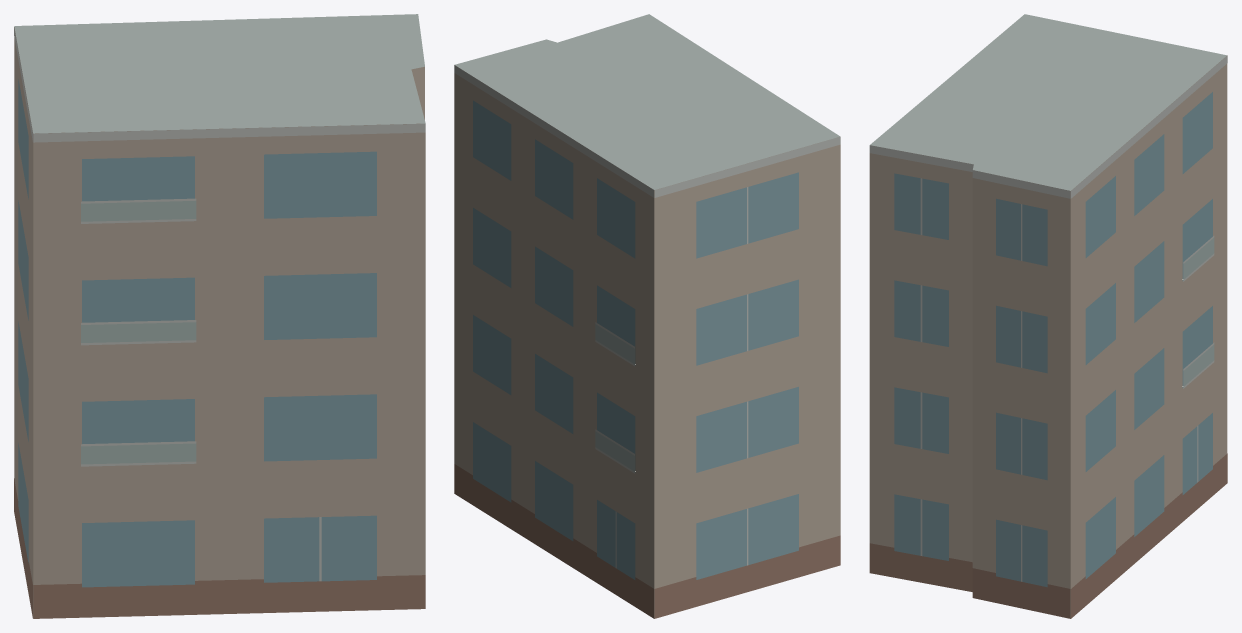
The model's file is survey-upis-32962807.glb.
3 views of the same model, side by side, from view 1: azimuth 30°, elevation 25°; view 2: azimuth 150°, elevation 25°; view 3: azimuth 270°, elevation 25° (orthographic). The views are drawn at different scales.
Parts seen in each view (by area): view 1: survey-upis-32962807.tmp; view 2: survey-upis-32962807.tmp; view 3: survey-upis-32962807.tmp.
Boxes of the visible parts, box(x1,y1,x2,y2) form: survey-upis-32962807.tmp: box(14, 14, 425, 618); survey-upis-32962807.tmp: box(454, 14, 840, 618); survey-upis-32962807.tmp: box(869, 14, 1227, 618).
Bounding box in the file's own units: 11.62 × 13.1 × 9.93.
